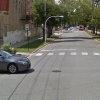Crosswalk: (33, 42, 100, 59)
